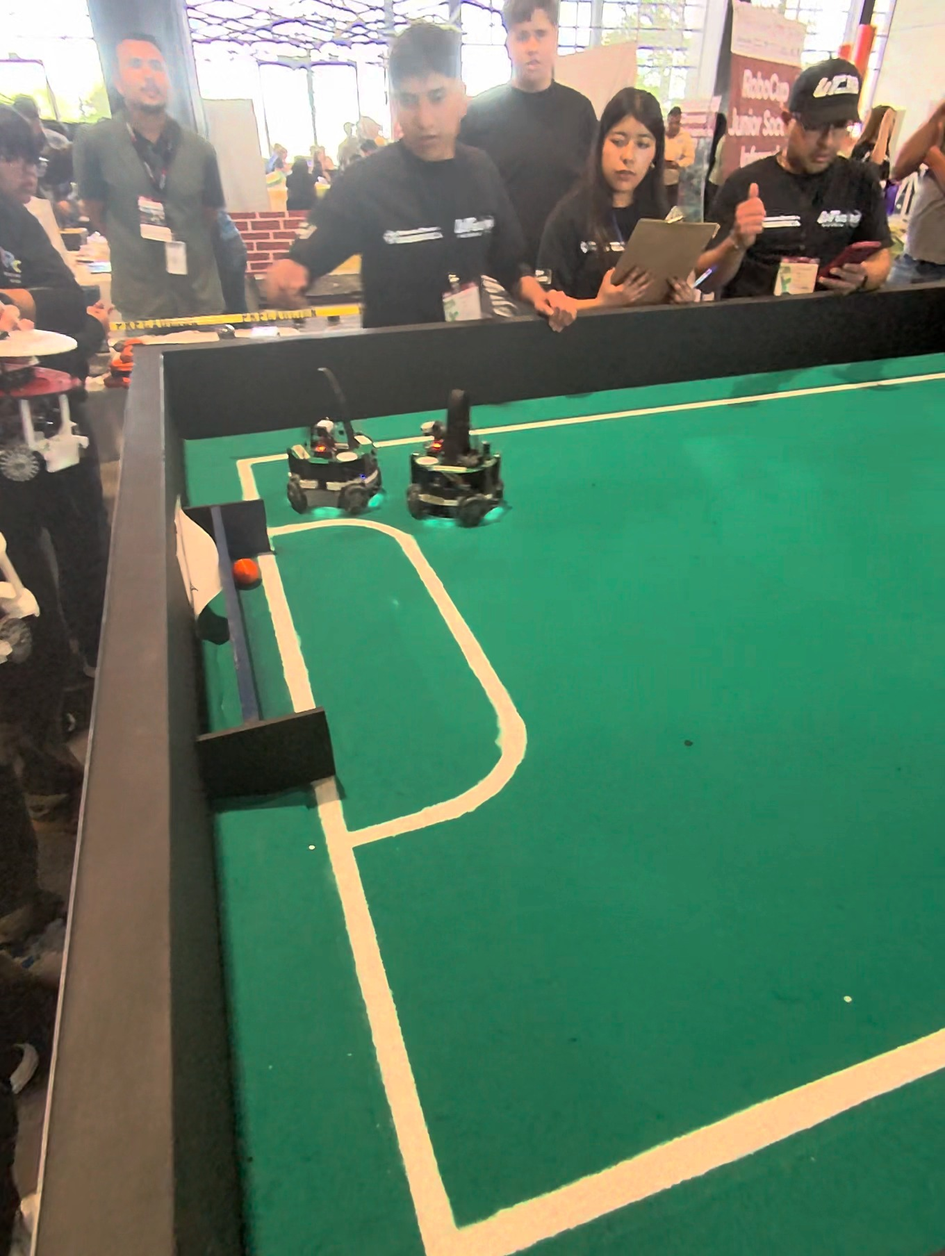Robot: (410, 383, 515, 531), (285, 363, 380, 514)
pelota: (236, 554, 262, 585)
